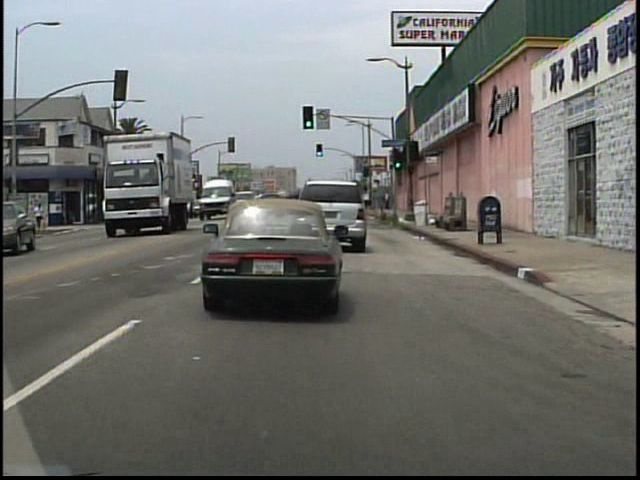person: (33, 202, 45, 230), (382, 189, 391, 210)
